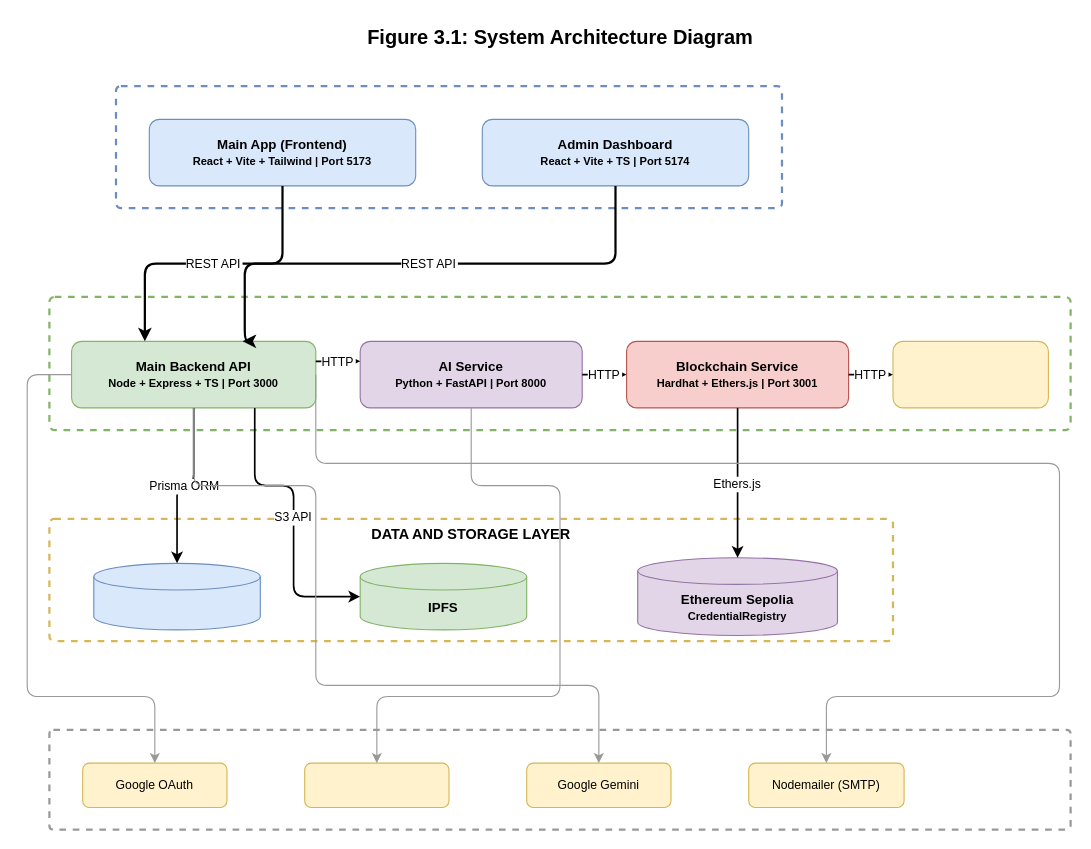
The diagram is 1091 pixels wide and 849 high, and some of its shapes have lost their labels. Here are the shapes that lost their labels. From the top down, the box of each, then its label:
(114, 84, 783, 209): CLIENT LAYER
(48, 295, 1071, 431): SERVER LAYER (MICROSERVICES)
(892, 340, 1048, 408): Credential Provider Adapter Interface | Port 4000
(93, 562, 260, 630): PostgreSQL
(304, 762, 449, 808): Groq API (LLM)
(48, 728, 1071, 830): EXTERNAL SERVICES
